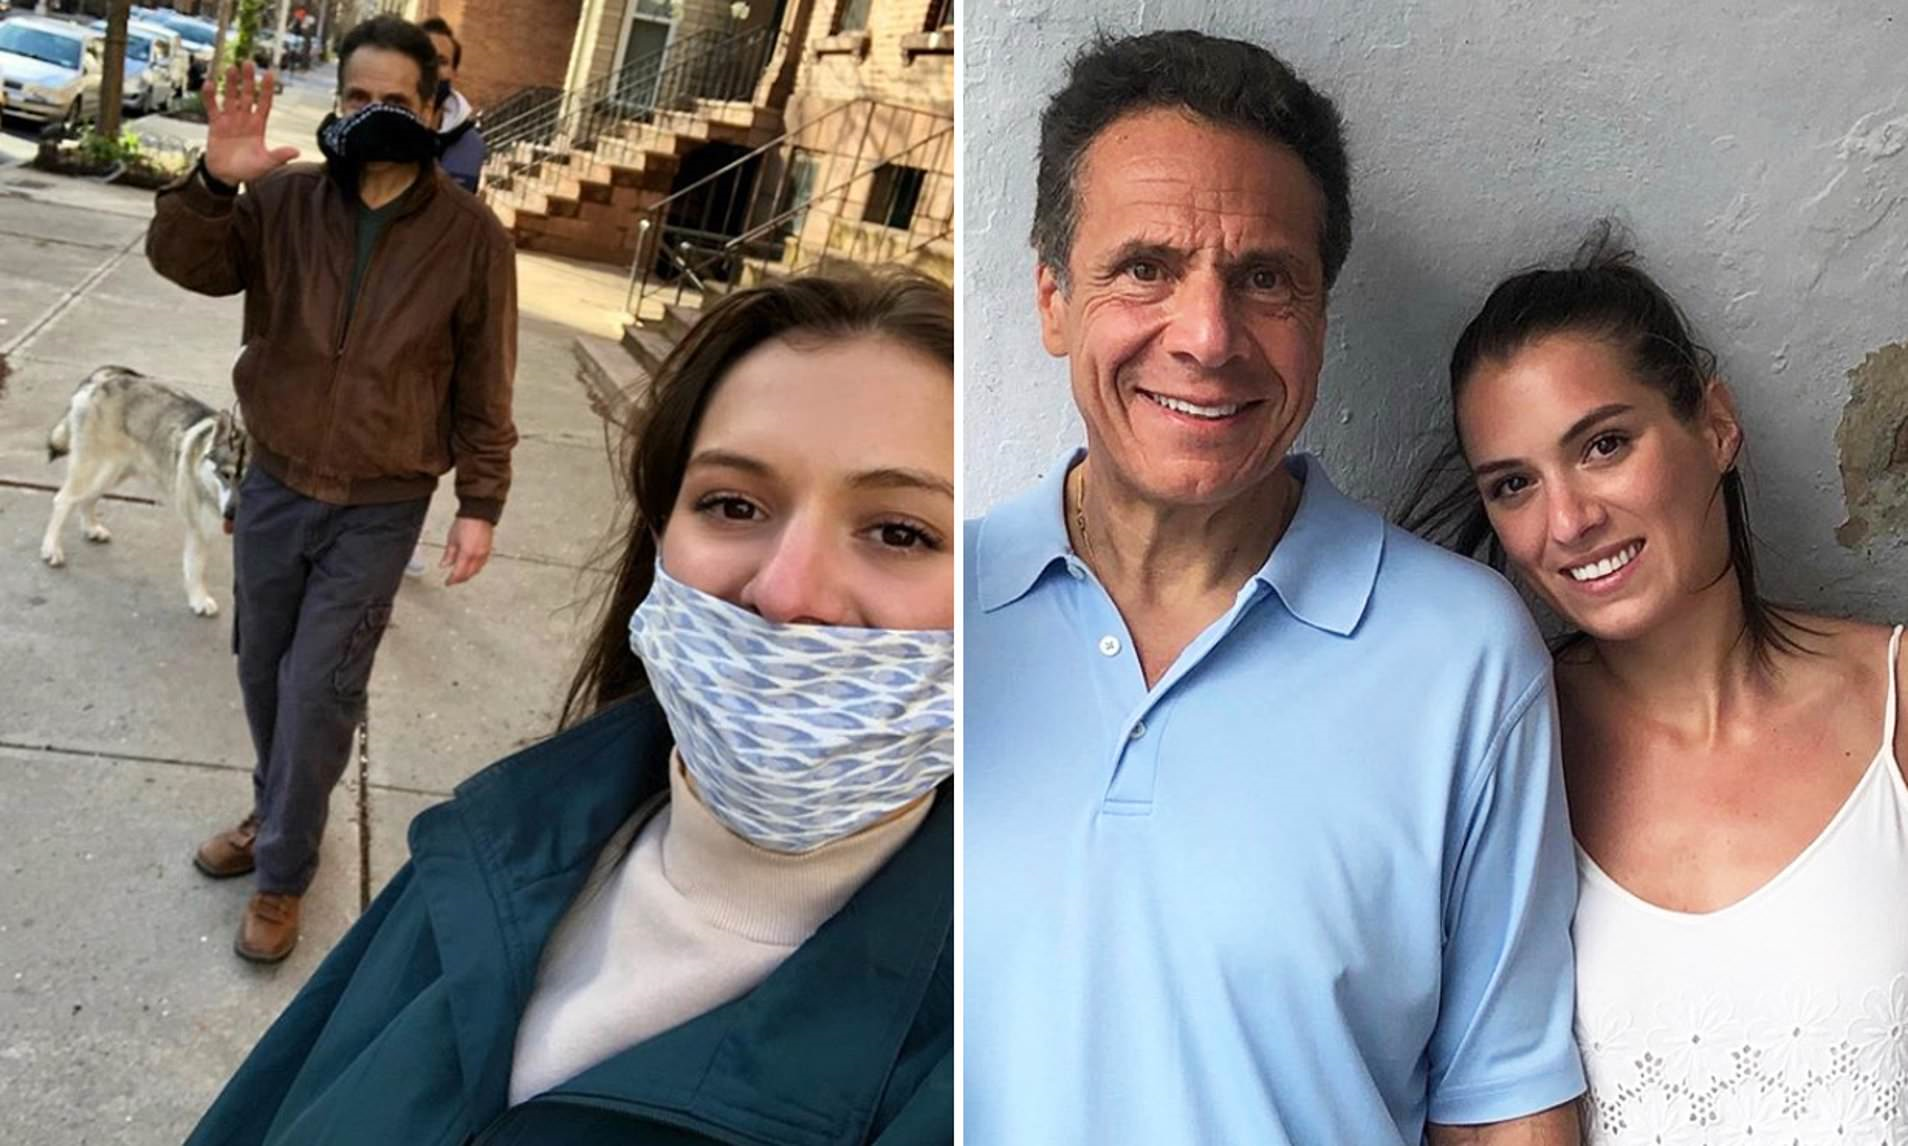mask_weared_incorrect: (612, 344, 961, 857)
with_mask: (323, 53, 443, 172)
without_mask: (1058, 190, 1327, 506), (1479, 352, 1689, 655)
